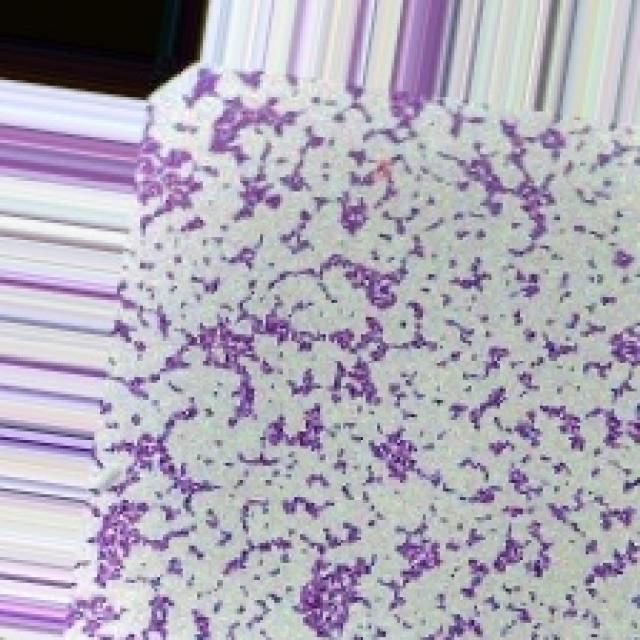Rod_bacteria: (43, 57, 637, 637)
